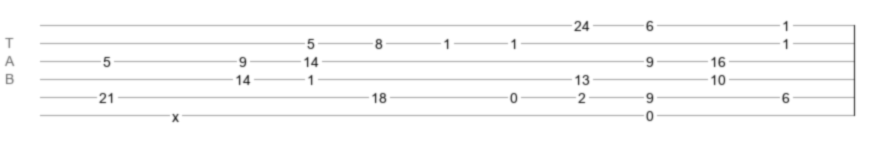0: (510, 90, 518, 100), (646, 108, 654, 118)
1: (307, 72, 315, 82), (443, 36, 451, 46), (510, 36, 518, 46), (782, 18, 790, 28), (782, 36, 790, 46)
10: (710, 72, 726, 82)
13: (574, 72, 590, 82)
14: (235, 72, 251, 82), (303, 54, 319, 64)
16: (710, 54, 726, 64)
18: (371, 90, 387, 100)
2: (578, 90, 586, 100)
21: (99, 90, 115, 100)
24: (574, 18, 590, 28)
5: (103, 54, 111, 64), (307, 36, 315, 46)
6: (646, 18, 654, 28), (782, 90, 790, 100)
8: (375, 36, 383, 46)
9: (239, 54, 247, 64), (646, 90, 654, 100), (646, 54, 654, 64)
x: (172, 109, 179, 117)
